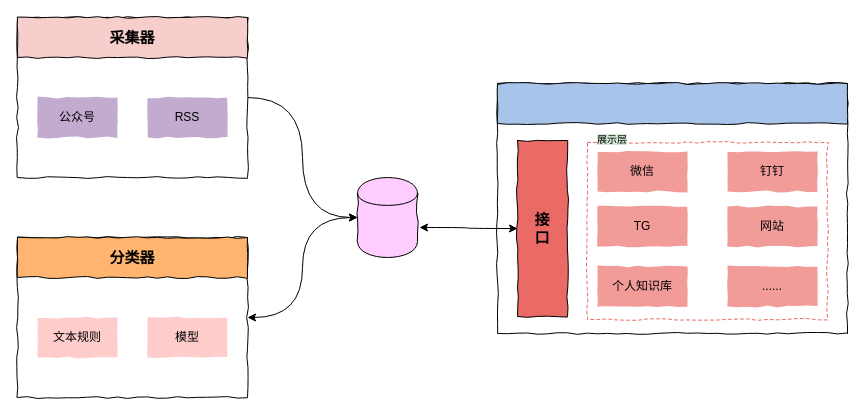
The diagram is 865 pixels wide and 415 high, and some of its shapes have lost their labels. Here are the shapes that lost their labels. From the top down, the centre of each, then its label:
(x=672, y=103): 分发器
(x=387, y=217): DB
